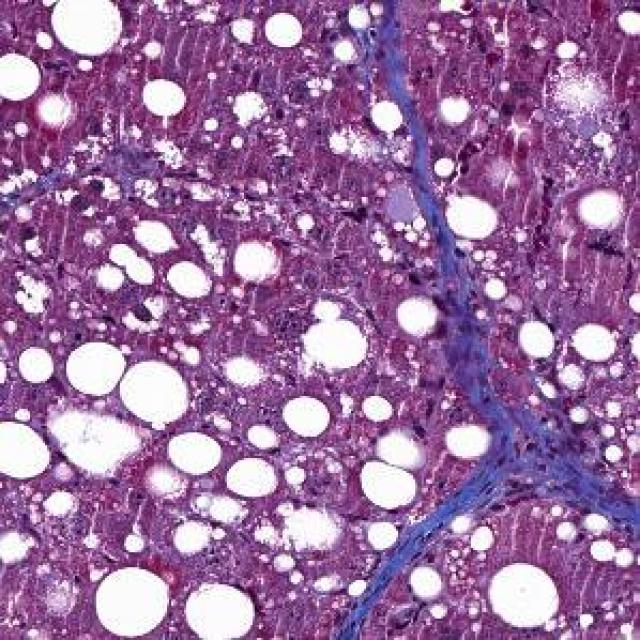fibrosis: (413, 252, 576, 528)
